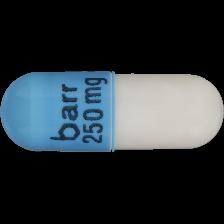53808-0236: (0, 0, 224, 224)
